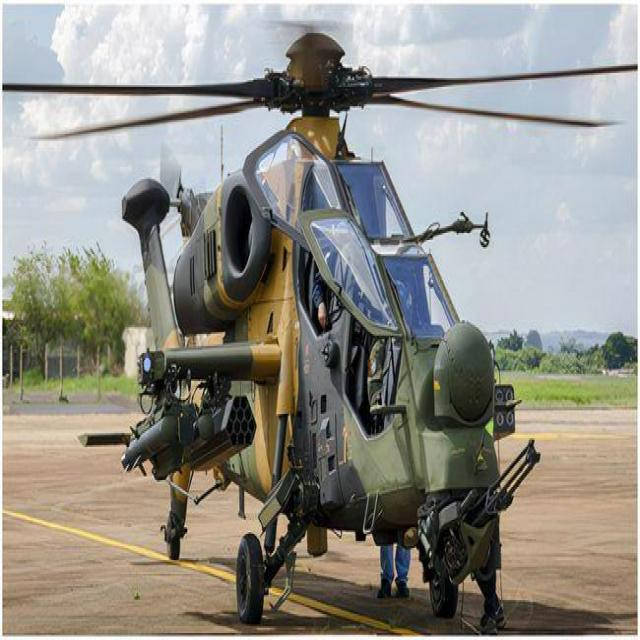MIL_HELO: (34, 14, 640, 616)
